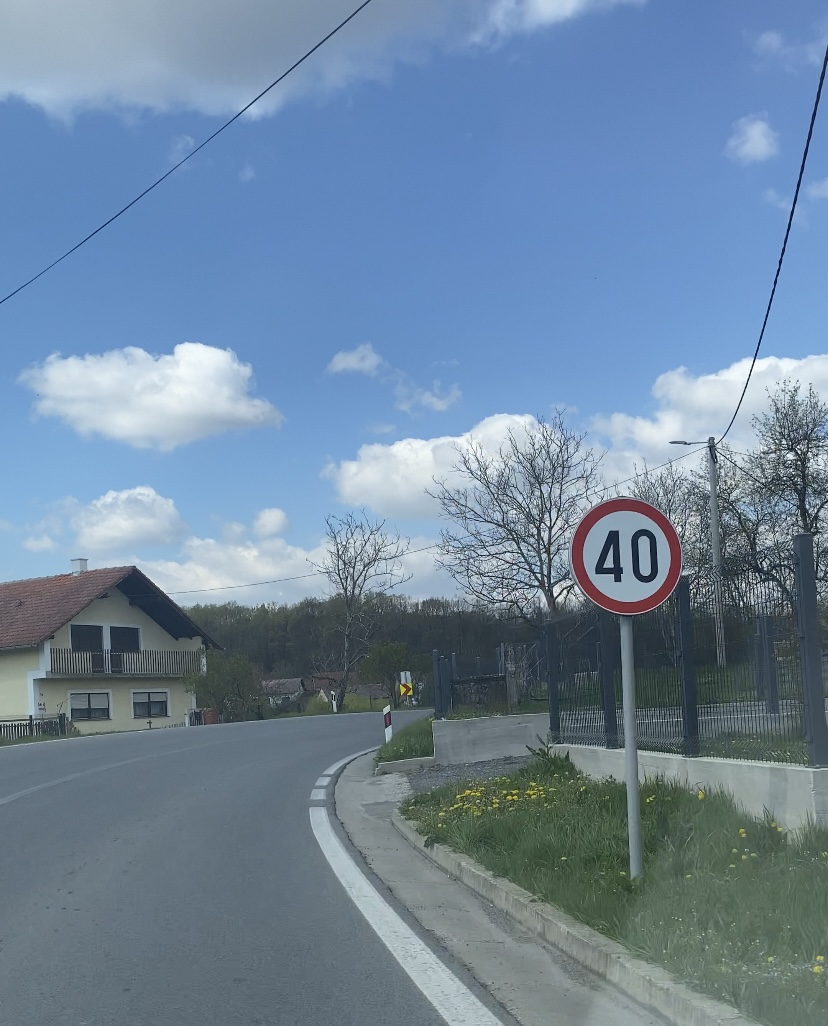Ograničenje brzine 40: (569, 497, 683, 615)
